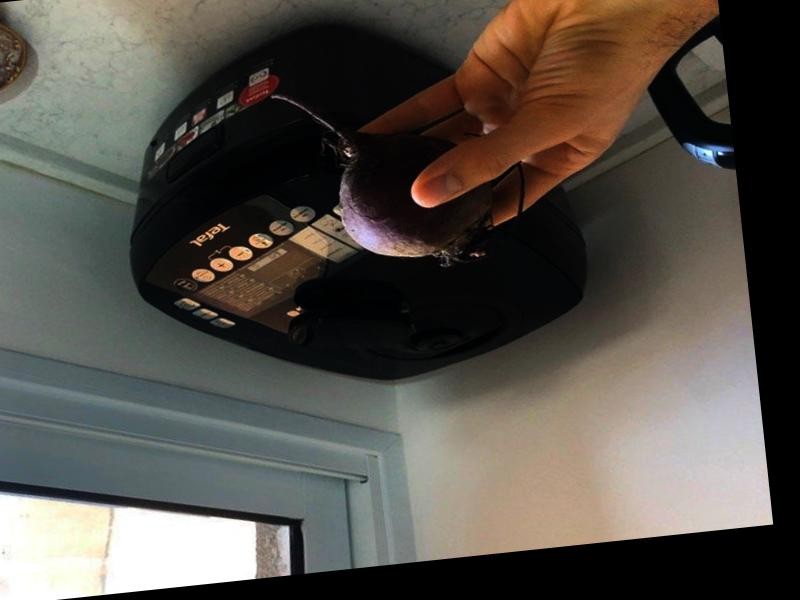Beet: (270, 66, 529, 283)
